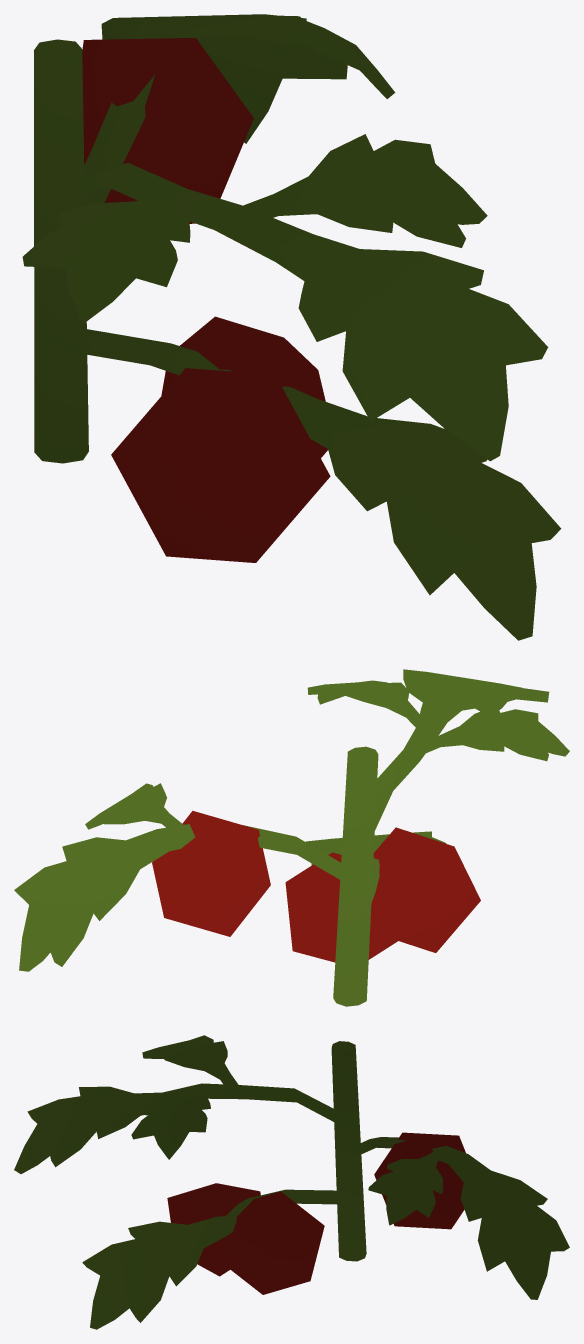
The model's file is Tomato_3.fbx.
3 views of the same model, one above another, from view 1: azimuth 30°, elevation 25°; view 2: azimuth 150°, elevation 25°; view 3: azimuth 270°, elevation 25° (orthographic). The views are drawn at different scales.
Visible parts, largest first — view 1: Farm_Dirt_Level3; view 2: Farm_Dirt_Level3; view 3: Farm_Dirt_Level3.
Part boxes in pixels (x1,y1,x2,y2): Farm_Dirt_Level3: (22,14,561,640); Farm_Dirt_Level3: (14,669,569,1006); Farm_Dirt_Level3: (14,1035,569,1329).
Bounding box in the file's own units: 8.06 × 5.81 × 12.65.
